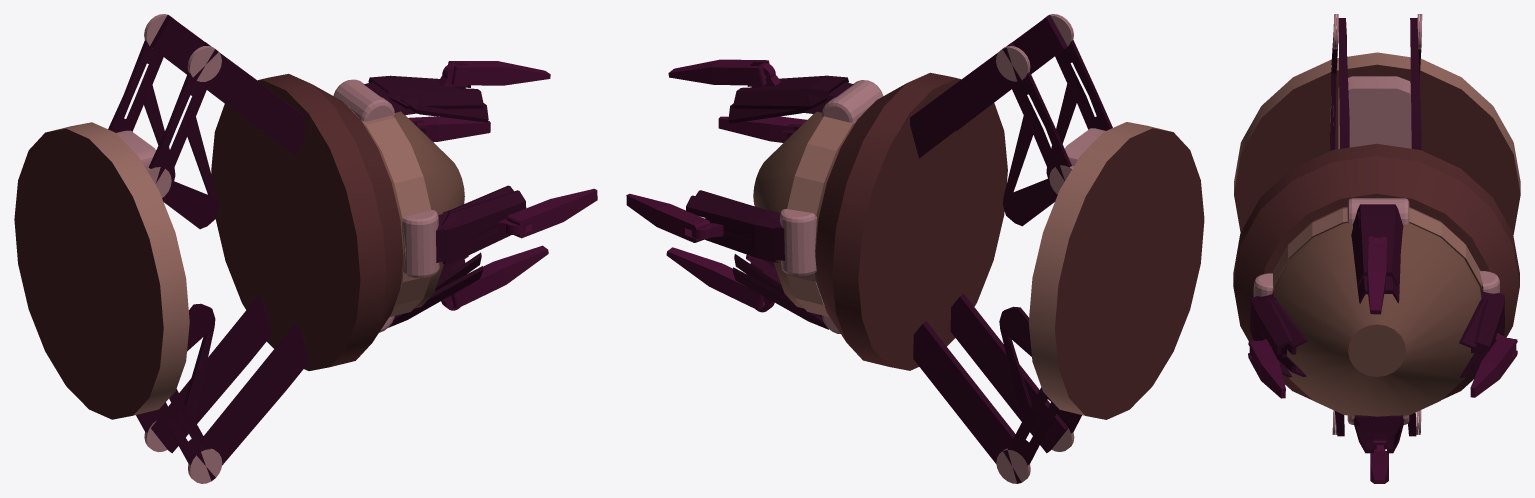
Rendered from machine_01.fbx.
The picture shows the model from 3 angles, left to right: view 1: azimuth 30°, elevation 25°; view 2: azimuth 150°, elevation 25°; view 3: azimuth 270°, elevation 25°; orthographic projection. The views are drawn at different scales.
Parts seen in each view (by area): view 1: front1, back, rotate1, center_adjust, center_adjust_01; view 2: front1, back, rotate1, center_adjust, center_adjust_01; view 3: front1, back, rotate1, center_adjust, center_adjust_01.
Part boxes in pixels (x1,y1,x2,y2): front1: (211,73,464,370); back: (14,122,189,419); rotate1: (333,61,597,332); center_adjust: (108,14,304,229); center_adjust_01: (136,296,308,483); front1: (753,72,1007,370); back: (1028,122,1204,419); rotate1: (626,59,883,333); center_adjust: (910,14,1112,226); center_adjust_01: (913,293,1081,483); front1: (1233,143,1519,416); back: (1234,52,1520,234); rotate1: (1248,198,1517,483); center_adjust: (1330,14,1422,150); center_adjust_01: (1332,410,1421,436).
Bounding box in the file's own units: 5.28 × 4.8 × 2.99.
